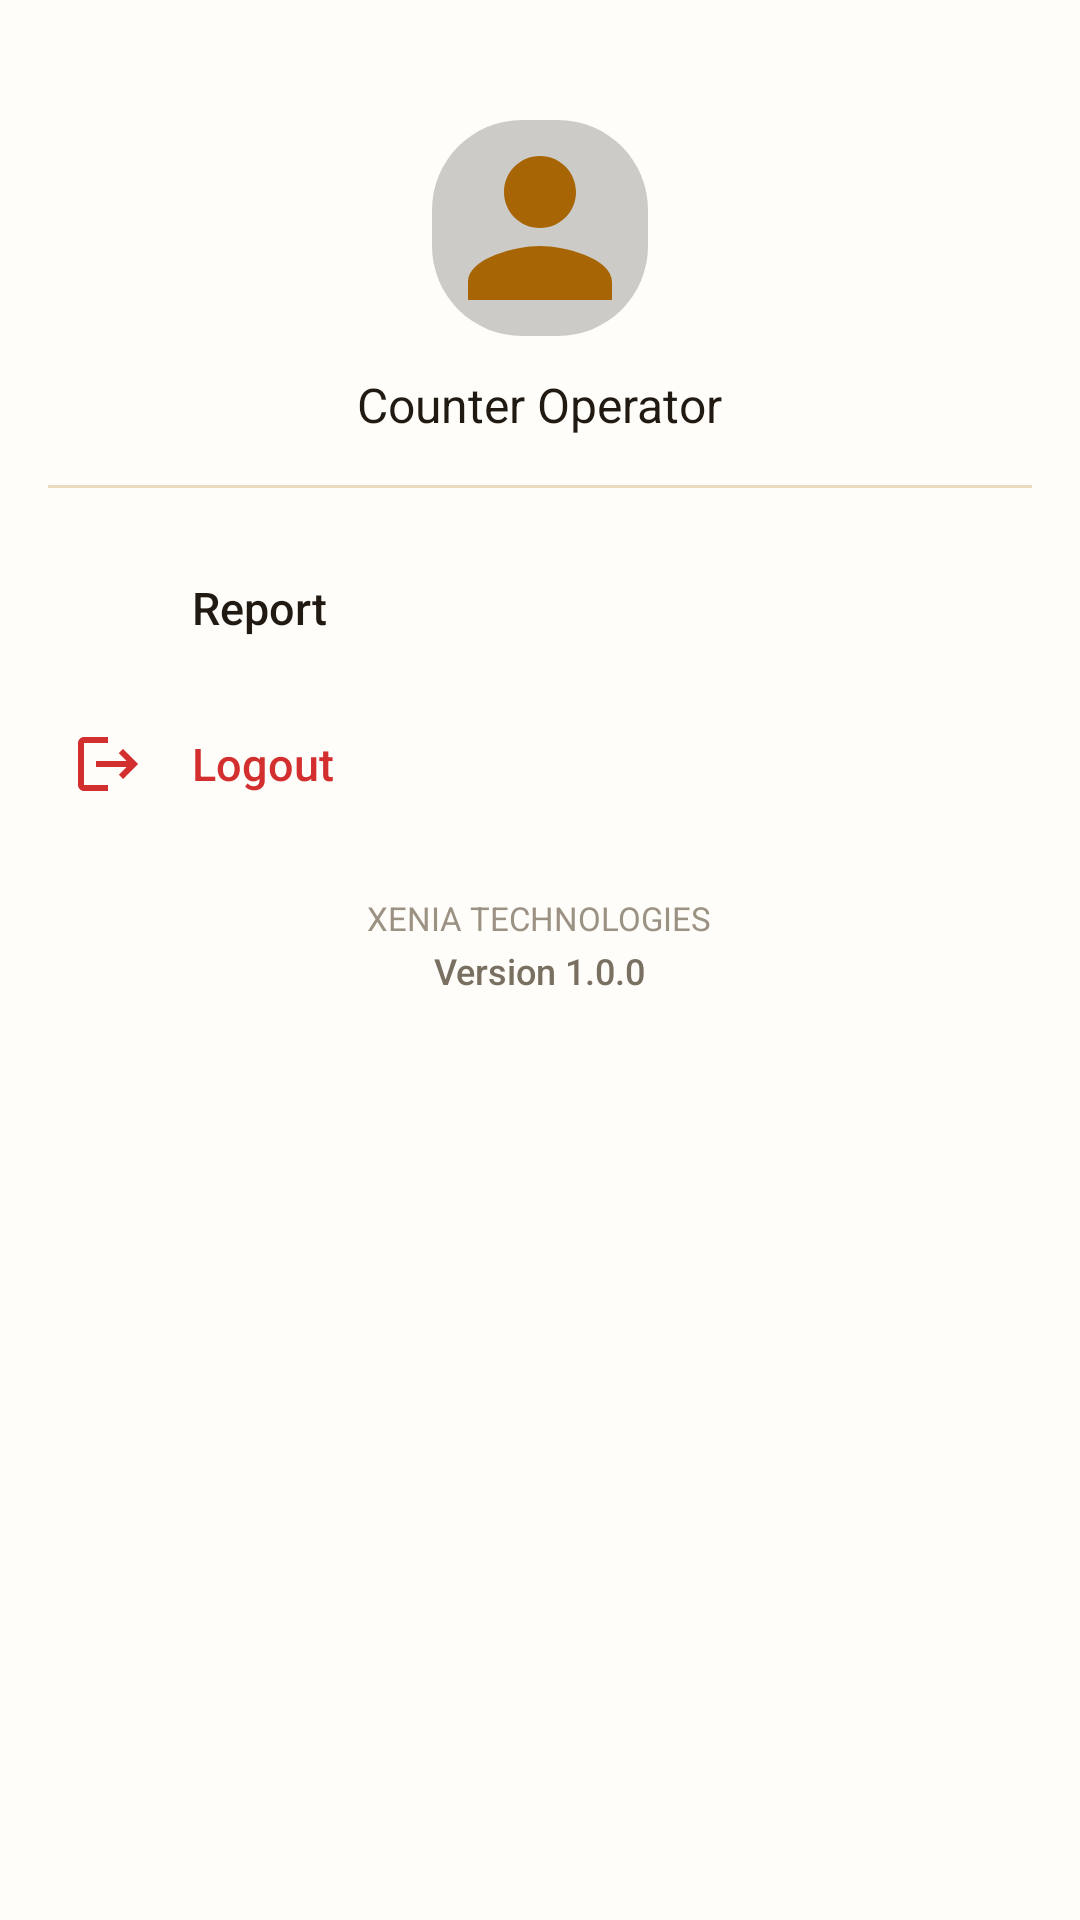

Locate icon controls on the screen. Image size 1080px×1920px, boxes as BBox(x1, y1, x2, y2).
Profile Image: BBox(432, 120, 648, 336)
